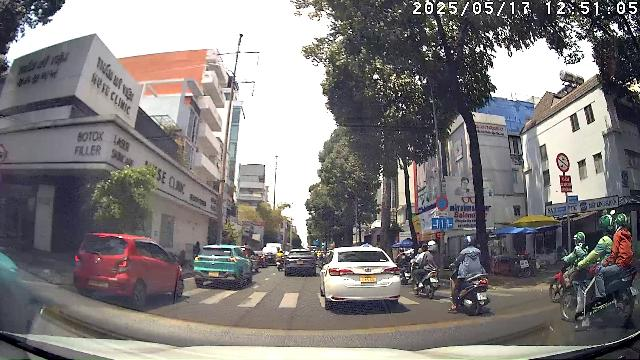131a-cam-do-xe: (435, 195, 448, 210)
